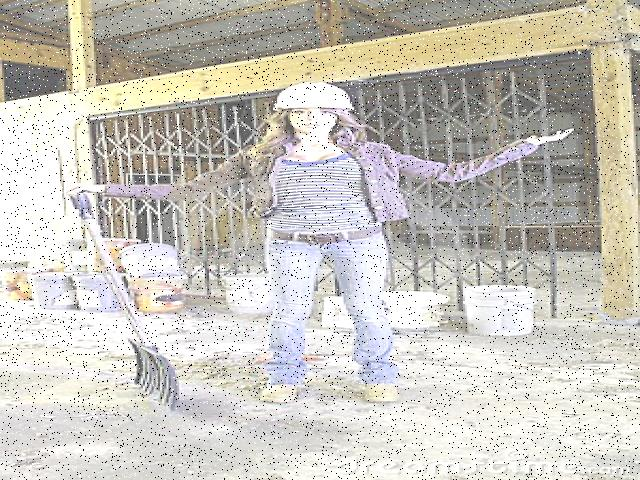Helmet: (268, 78, 356, 115)
